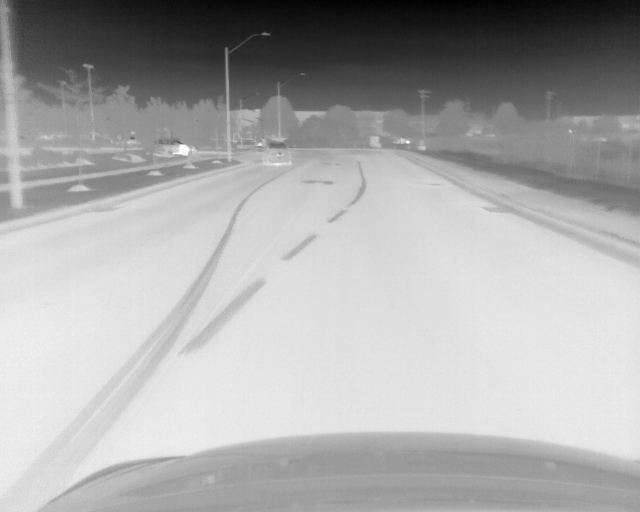car: (150, 135, 196, 154), (261, 141, 290, 165)
